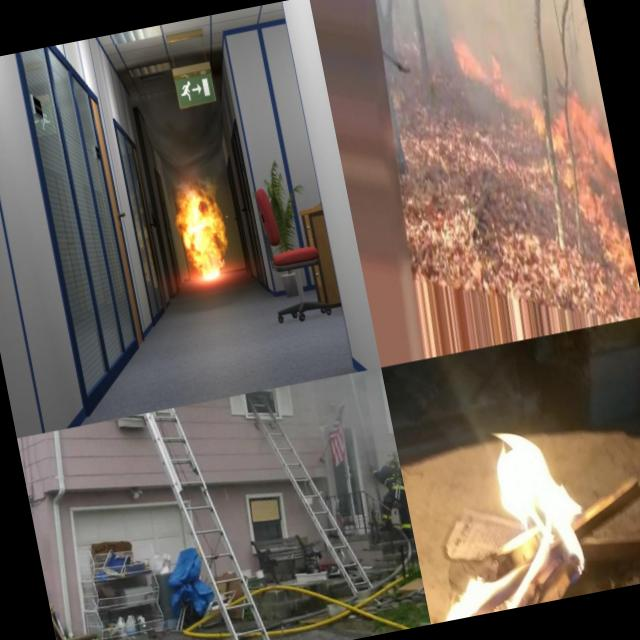fire: (417, 416, 600, 620), (545, 92, 640, 300), (168, 172, 240, 286), (448, 24, 506, 108), (526, 95, 550, 143)
